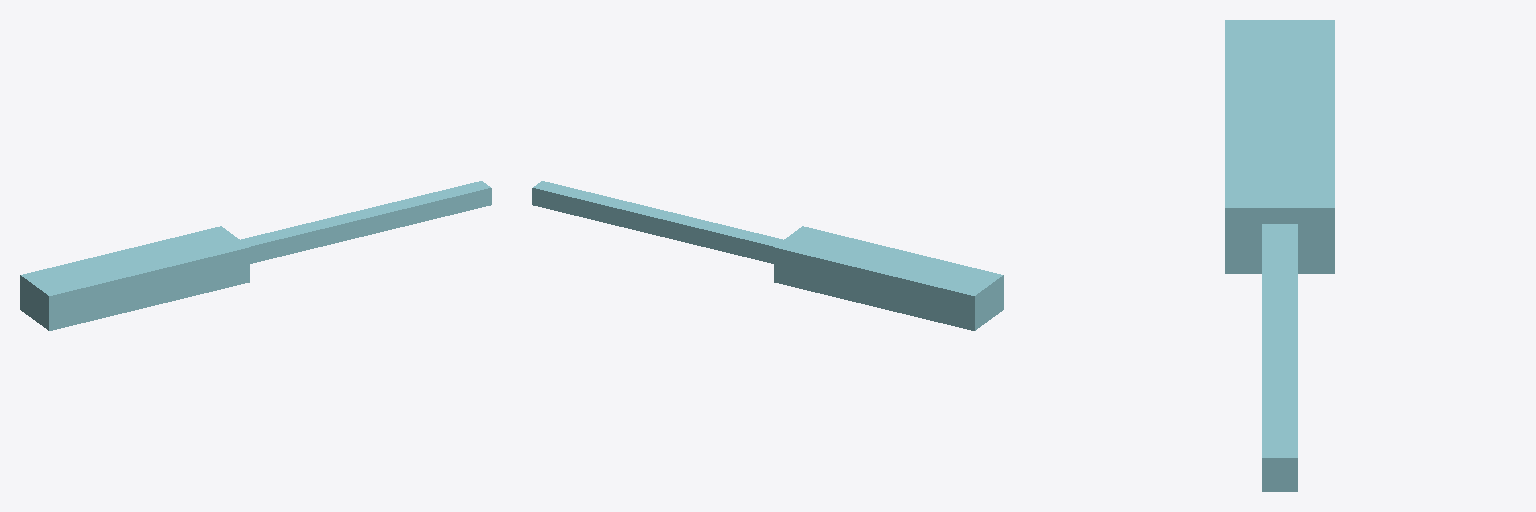
robot.urdf — primitive_cuboidal_screwdriver:
<?xml version="1.0"?>
<robot name="primitive_cuboidal_screwdriver">

  <link name="primitive_cuboidal_screwdriver">
    <!-- Handle -->
    <visual>
      <origin xyz="0 0 0" rpy="0 0 0"/>
      <geometry>
        <box size="0.12 0.03 0.02"/>
      </geometry>
      <material name="material">
        <color rgba="0.639 0.847 0.882 1.0"/>
      </material>
    </visual>
    <collision>
      <origin xyz="0 0 0" rpy="0 0 0"/>
      <geometry>
        <box size="0.12 0.03 0.02"/>
      </geometry>
    </collision>

    <!-- Head -->
    <visual>
      <origin xyz="0.135 0 0" rpy="0 0 0"/>
      <geometry>
        <box size="0.15 0.01 0.01"/>
      </geometry>
      <material name="material">
        <color rgba="0.639 0.847 0.882 1.0"/>
      </material>
    </visual>
    <collision>
      <origin xyz="0.135 0 0" rpy="0 0 0"/>
      <geometry>
        <box size="0.15 0.01 0.01"/>
      </geometry>
    </collision>

    <inertial>
      <density value="400.0"/>
    </inertial>
  </link>

</robot>

--- Render facts (derived) ---
The picture shows the robot from 3 angles, left to right: view 1: azimuth 30°, elevation 25°; view 2: azimuth 150°, elevation 25°; view 3: azimuth 270°, elevation 25°; orthographic projection.
Model primitive_cuboidal_screwdriver with 1 links and 0 joints (none), rooted at primitive_cuboidal_screwdriver, posed every joint at zero.
Links seen in each view (by area): view 1: primitive_cuboidal_screwdriver; view 2: primitive_cuboidal_screwdriver; view 3: primitive_cuboidal_screwdriver.
Boxes of the visible links, left/top/right/bottom form: primitive_cuboidal_screwdriver: left=20, top=181, right=491, bottom=330; primitive_cuboidal_screwdriver: left=532, top=181, right=1003, bottom=330; primitive_cuboidal_screwdriver: left=1225, top=20, right=1334, bottom=491.
Size in the robot's own frame: 0.27 by 0.03 by 0.02 metres.
Geometry: primitives only (box / cylinder / sphere), no mesh files.
